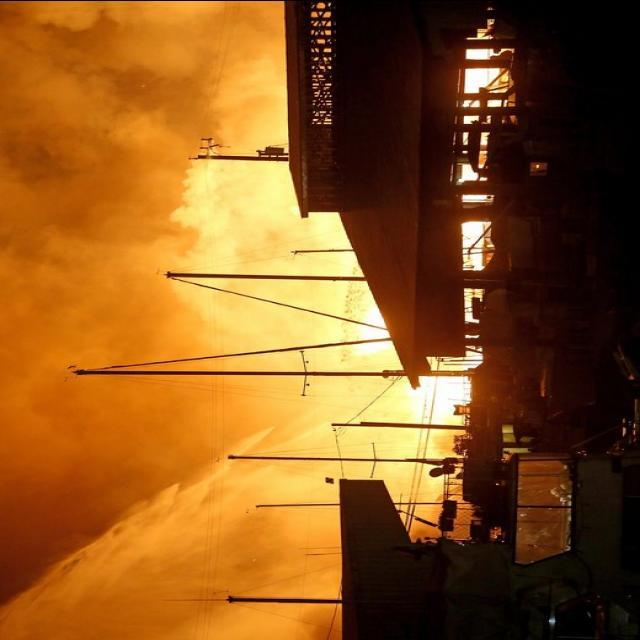Fire: (354, 2, 498, 430)
